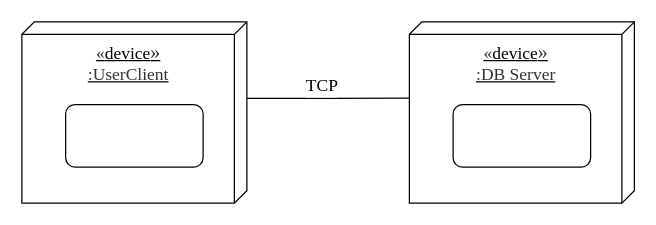
This 656x225 diagram has some shape labels left out. The shapes that lost their labels are listed below. From the top down, each one's centre as x and y in pixels, then its label:
At [133,135]: "«artifact» Program".
At [521,135]: "«artifact» MySQL DB".
